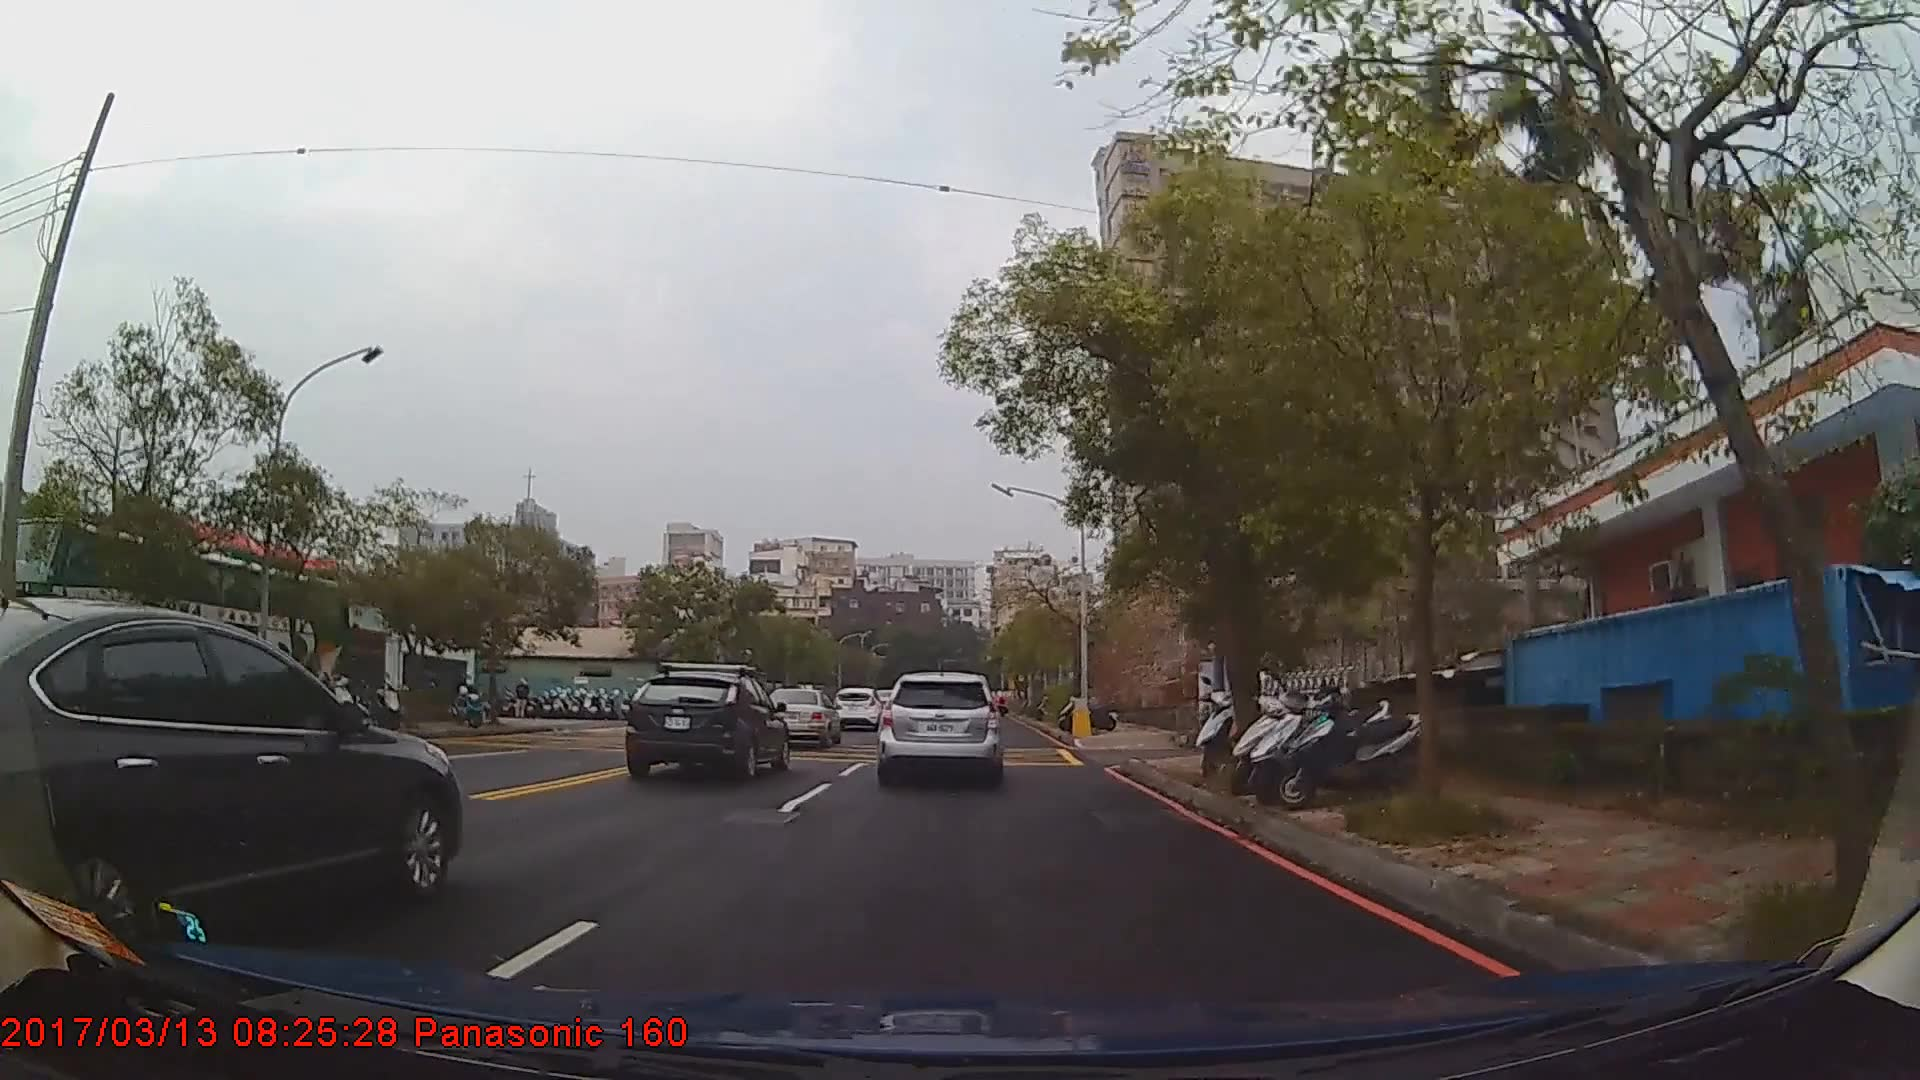vehicle: (0, 596, 462, 956), (0, 516, 344, 744), (622, 669, 789, 783), (877, 670, 1001, 790), (760, 686, 839, 746), (829, 686, 882, 731)
